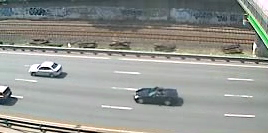car: (132, 84, 182, 110), (26, 59, 65, 81)
